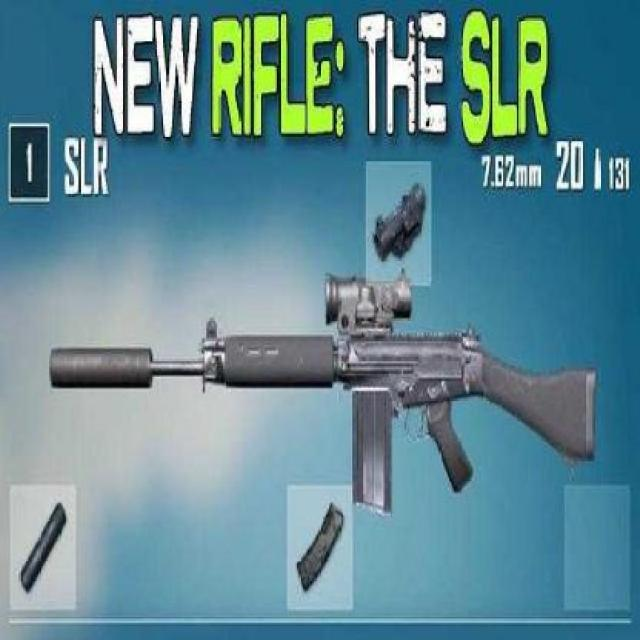weapon: (49, 272, 600, 520)
